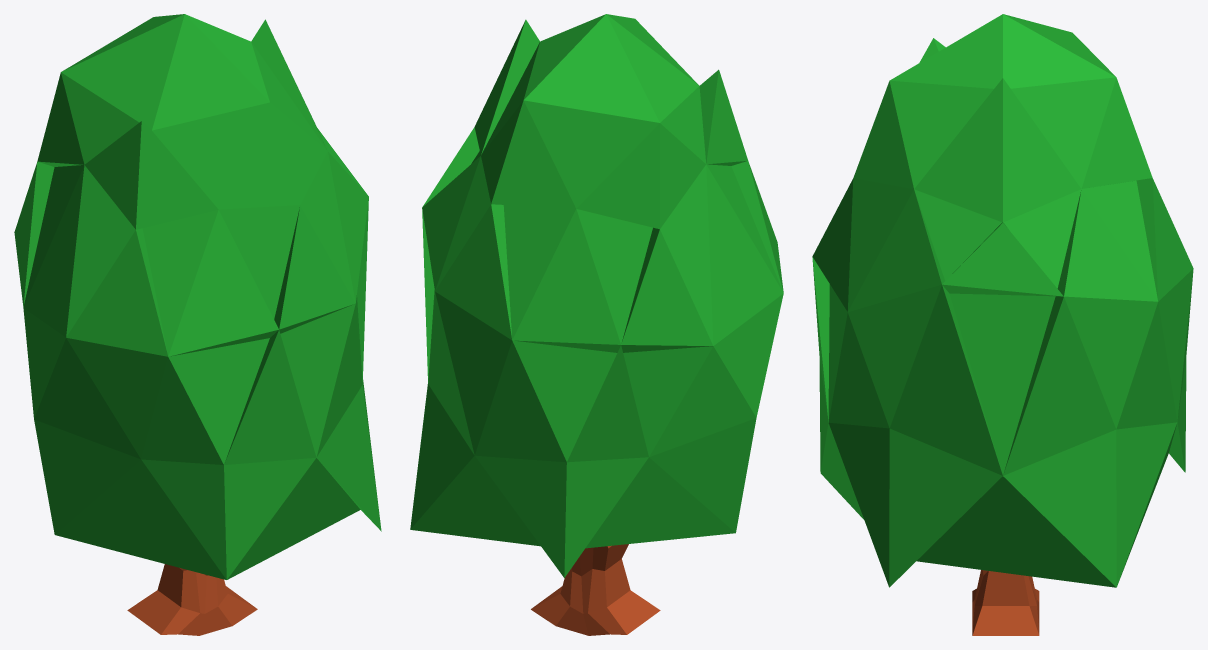
The model's file is tree_0.glb.
The picture shows the model from 3 angles, left to right: view 1: azimuth 30°, elevation 25°; view 2: azimuth 150°, elevation 25°; view 3: azimuth 270°, elevation 25°; orthographic projection.
Parts seen in each view (by area): view 1: tree_0; view 2: tree_0; view 3: tree_0.
Part boxes in pixels (left/top/right/bottom): tree_0: left=14, top=14, right=381, bottom=635; tree_0: left=410, top=14, right=783, bottom=635; tree_0: left=812, top=14, right=1193, bottom=635.
Size of the model in its own units: 2.1 by 3.76 by 2.14.
